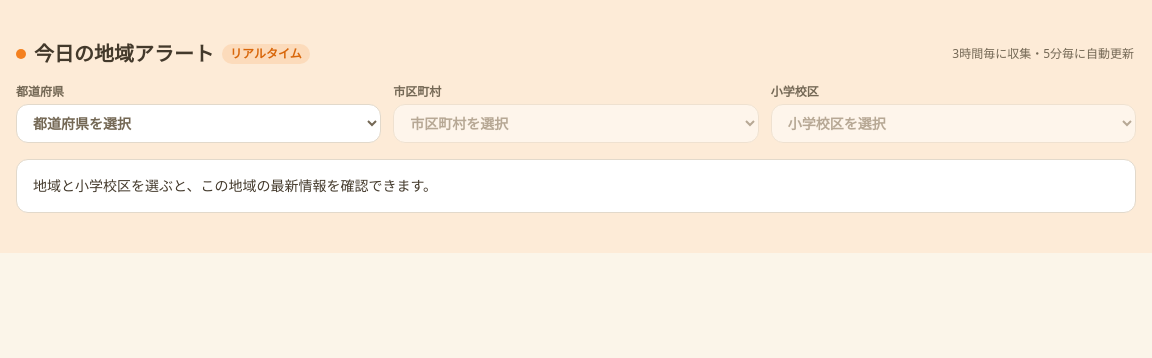
Test case: loading states of the region selects › gives up a stalled request after the timeout, explains why and retries on demand
Select "東京都" in the dropdown labelled "都道府県": (199, 124) top-left (16, 104), bottom-right (381, 143)
Wait 12000 ms
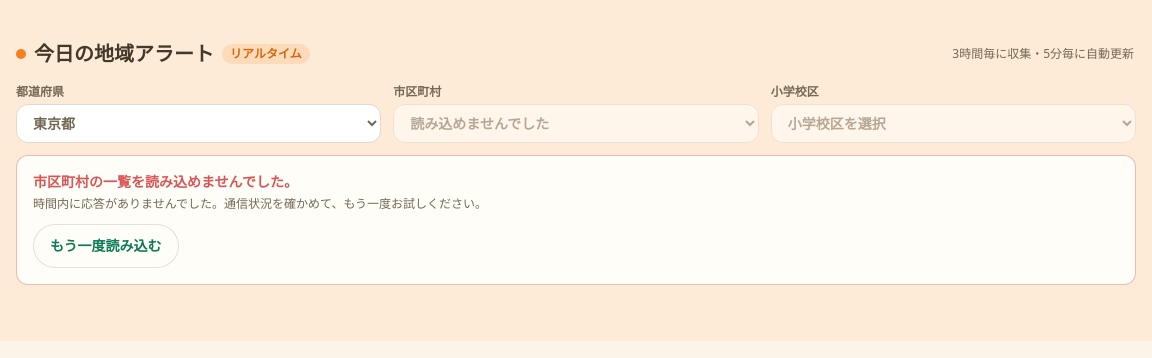
Expected: the dropdown labelled "市区町村" is disabled, top-left (393, 104), bottom-right (759, 143)
Result: the message shows "市区町村の一覧を読み込めませんでした。" at top-left (16, 155), bottom-right (1136, 285)
Result: the message shows "時間内に応答がありませんでした。" at top-left (33, 195), bottom-right (487, 212)
Click the button "もう一度読み込む": click(106, 246) top-left (33, 224), bottom-right (179, 268)
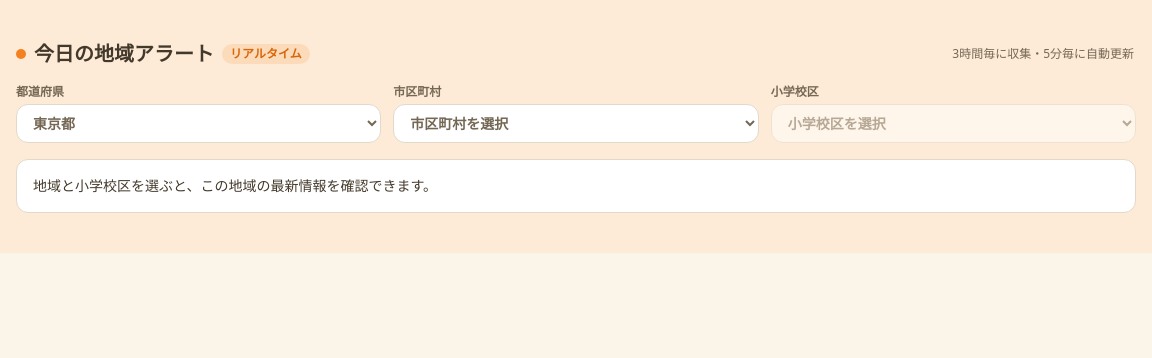
Result: the message "市区町村の一覧を読み込めませんでした。 時間内に応答がありませんでした。通信状況を確かめて、もう一度お試しください。 もう一度読み込む" is gone
Result: the dropdown labelled "市区町村" is enabled at top-left (393, 104), bottom-right (759, 143)
